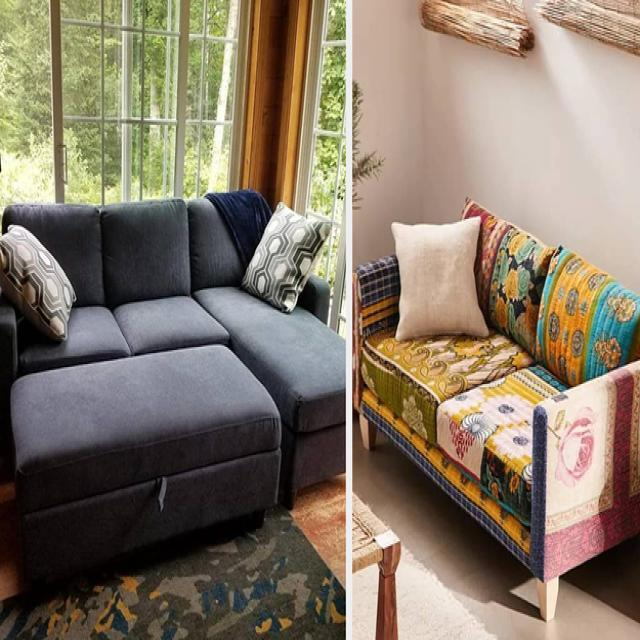sofa: (0, 187, 345, 590), (352, 196, 639, 622)
